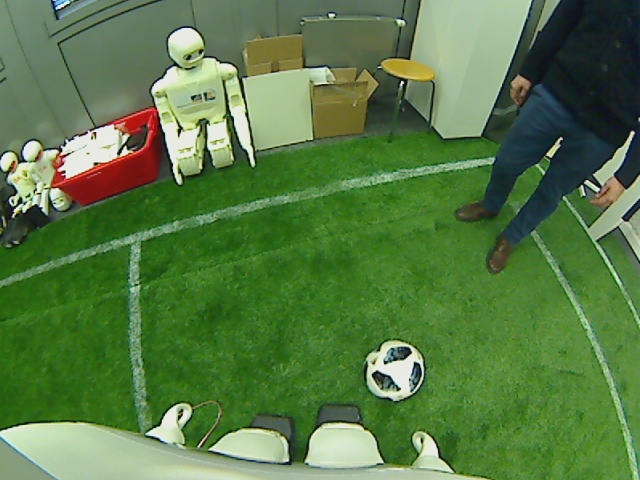ball: (361, 340, 427, 401)
